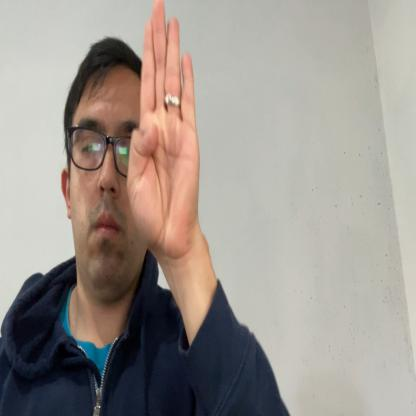B: (126, 1, 200, 254)
